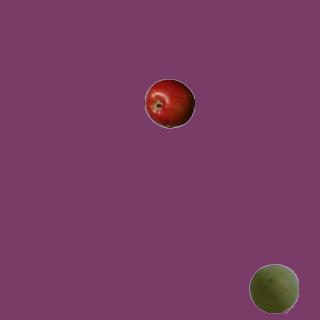Apple Braeburn: (144, 78, 194, 128)
Grape White 4: (248, 263, 298, 313)
